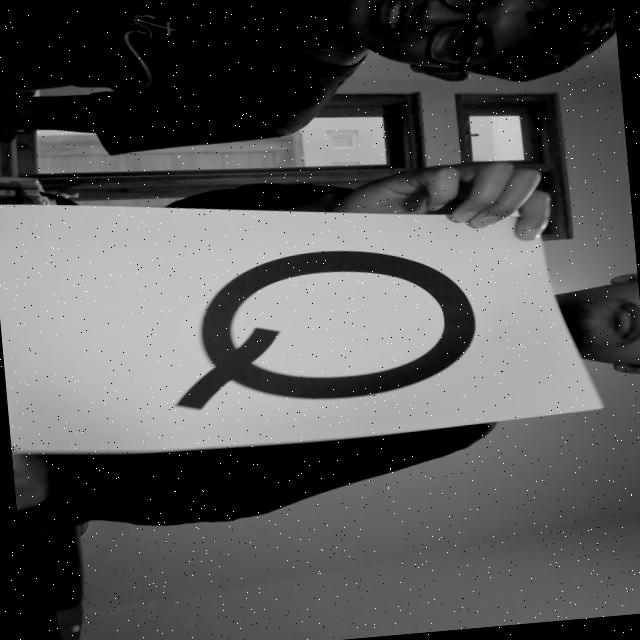q: (152, 219, 502, 430)
